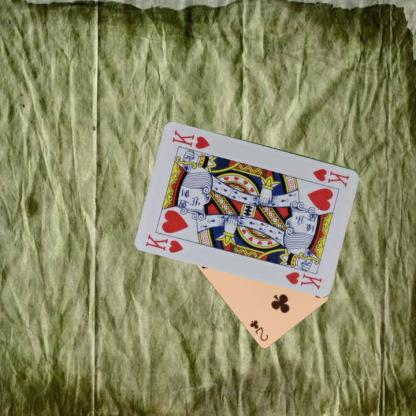Kh: (143, 231, 185, 254), (310, 166, 351, 188)
